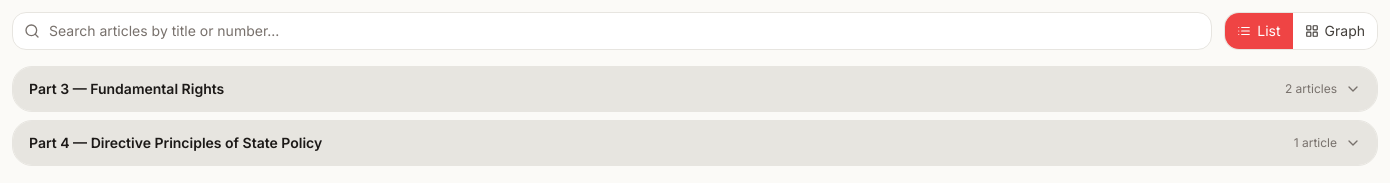
Test: ArticleExplorer › filters articles by title when searching
In the field labelled "Search articles": (612,31) top-left (12, 12), bottom-right (1212, 50), type "Equality"
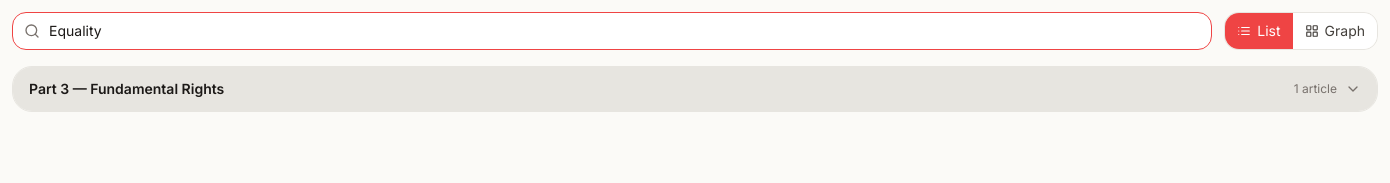
Expected: the text "Part 3 — Fundamental Rights" is shown, top-left (29, 79), bottom-right (224, 99)
Expected: the button "Part 4" is gone
